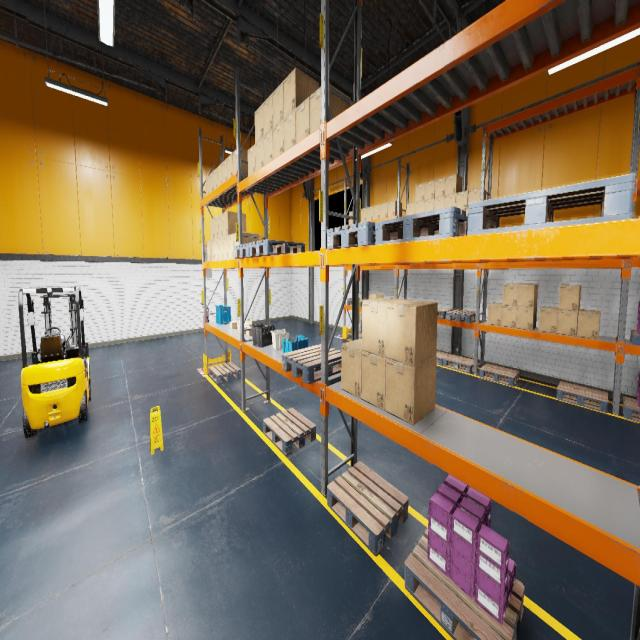box: (385, 356, 436, 425), (386, 300, 438, 366), (362, 298, 409, 358), (310, 84, 350, 134), (283, 68, 319, 119), (361, 350, 386, 411), (341, 338, 362, 399), (577, 309, 600, 339), (296, 96, 310, 143), (234, 232, 259, 258), (558, 285, 581, 311), (223, 211, 246, 236), (557, 310, 579, 336), (539, 306, 558, 333), (284, 109, 296, 151), (516, 306, 537, 330), (517, 284, 538, 307), (273, 81, 283, 128), (232, 147, 248, 175), (273, 119, 284, 159), (263, 92, 273, 136), (468, 187, 486, 209), (502, 283, 519, 306), (263, 128, 273, 164), (445, 174, 462, 195), (502, 305, 517, 328), (255, 103, 263, 144), (488, 303, 502, 326), (255, 137, 264, 171), (456, 190, 468, 210), (388, 200, 402, 217), (248, 144, 255, 176), (434, 178, 445, 198), (424, 180, 435, 200), (415, 183, 425, 202), (444, 194, 456, 208), (226, 153, 232, 179), (228, 233, 234, 259), (434, 196, 445, 209), (424, 198, 434, 211), (222, 158, 227, 183), (218, 213, 223, 238), (217, 163, 222, 187), (415, 200, 424, 213), (406, 202, 415, 215), (380, 202, 387, 218), (373, 204, 380, 220), (214, 239, 219, 261), (238, 325, 250, 334), (229, 320, 240, 329), (213, 167, 217, 190), (224, 236, 228, 259), (219, 237, 223, 260), (214, 216, 218, 239), (210, 218, 214, 241), (369, 293, 384, 299), (209, 171, 213, 193), (210, 240, 214, 261), (367, 206, 373, 220), (207, 241, 211, 261), (237, 321, 247, 328), (361, 208, 366, 222), (244, 318, 252, 326), (206, 175, 209, 195), (246, 327, 252, 336), (349, 211, 352, 225)
forklift: (18, 286, 91, 438)
pallets: (404, 528, 524, 640), (467, 174, 635, 235), (327, 461, 408, 556), (375, 206, 468, 244), (263, 408, 316, 455), (282, 344, 341, 384), (556, 381, 608, 412), (327, 221, 375, 249), (479, 363, 519, 386), (250, 240, 306, 256), (208, 362, 241, 384), (443, 354, 478, 374), (622, 396, 640, 422), (446, 310, 476, 323), (234, 243, 254, 258), (436, 350, 451, 366), (438, 307, 452, 319), (630, 330, 640, 346), (348, 332, 362, 339), (347, 300, 362, 306)
